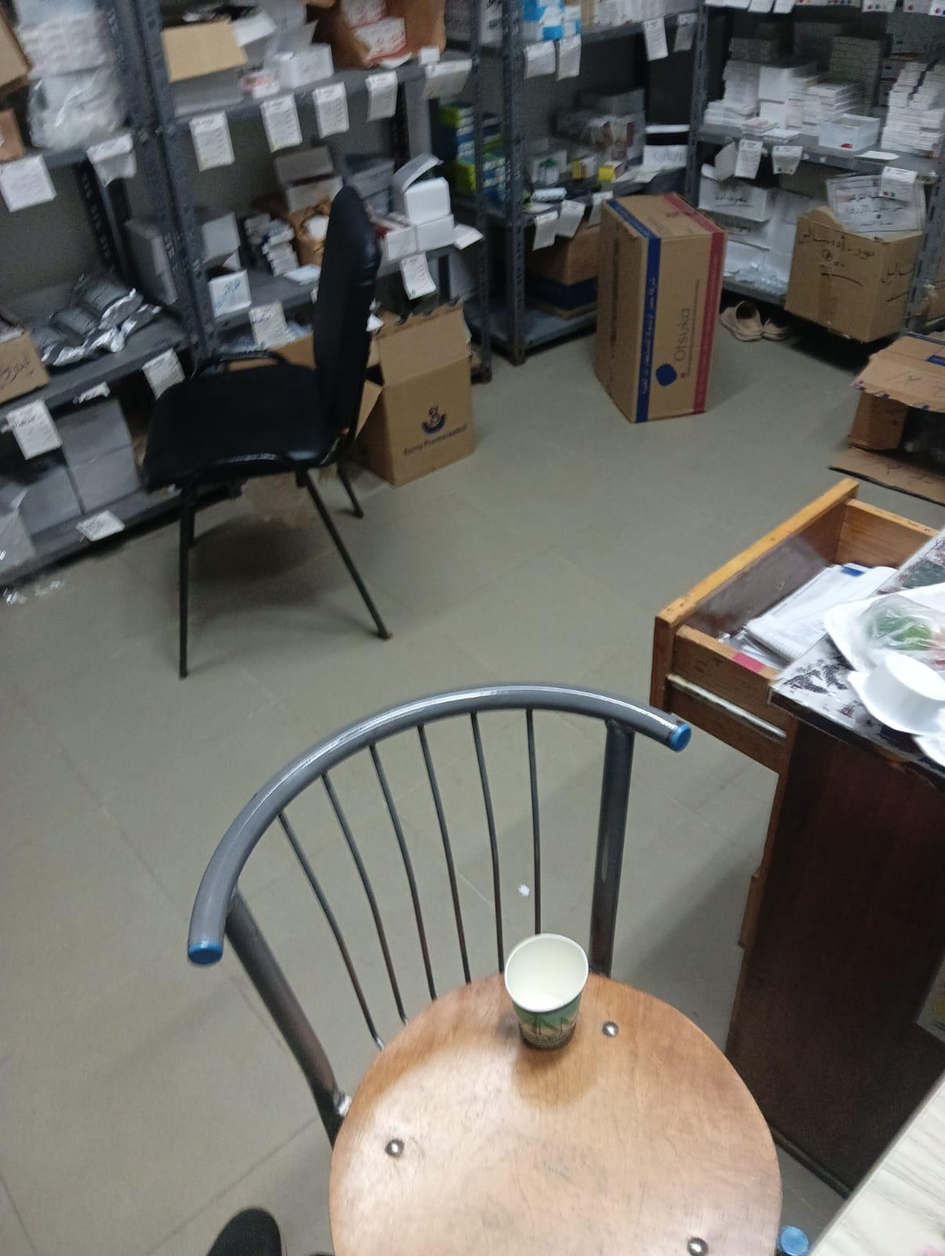cup: (505, 933, 588, 1049)
